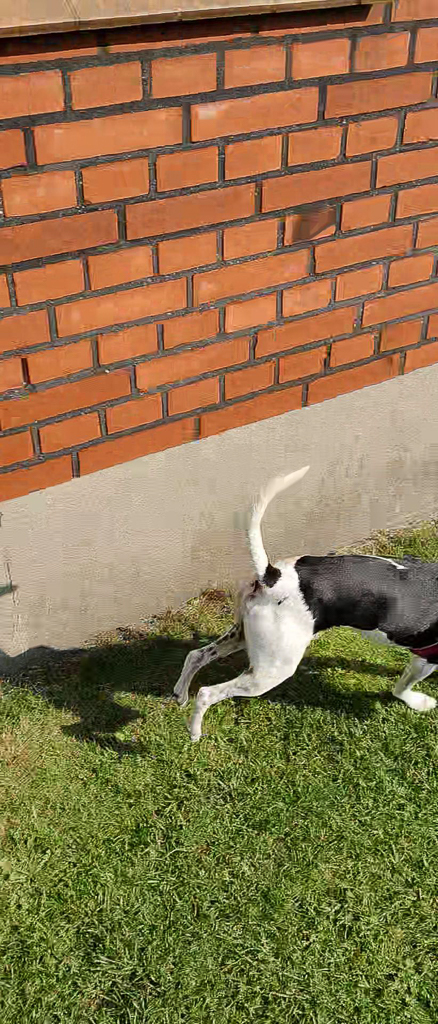Dog: (166, 446, 438, 758)
